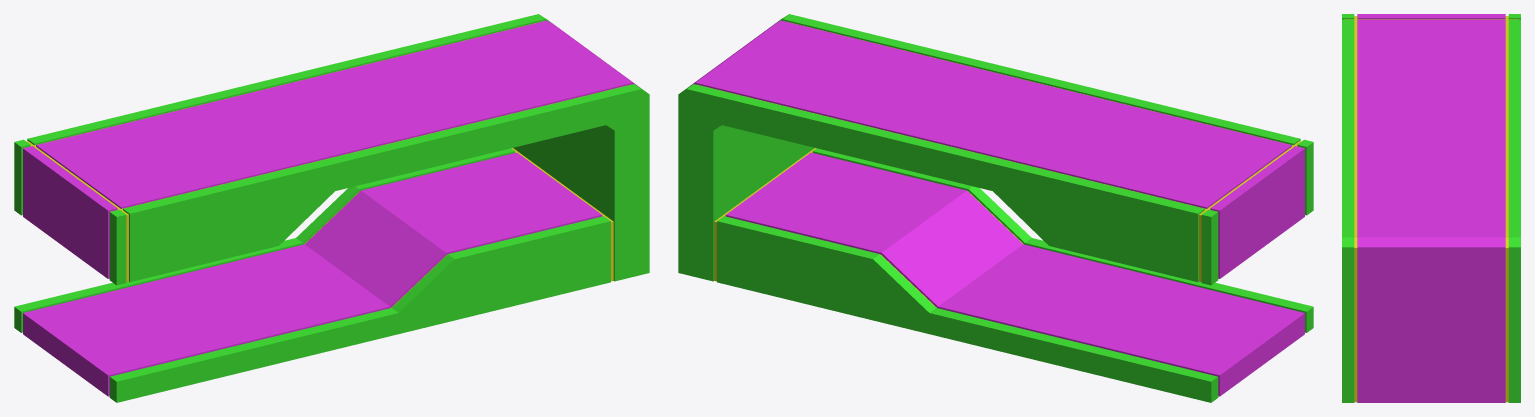
Rendered from Table_05.fbx.
3 renders of one model, left to right at view 1: azimuth 30°, elevation 25°; view 2: azimuth 150°, elevation 25°; view 3: azimuth 270°, elevation 25°, orthographic. The views are drawn at different scales.
Visible parts, largest first — view 1: Table_05; view 2: Table_05; view 3: Table_05.
Part boxes in pixels (x1,y1,x2,y2): Table_05: (14, 14, 649, 402); Table_05: (678, 14, 1313, 402); Table_05: (1342, 14, 1520, 402).
Size of the model in its own units: 183 by 60.96 by 60.96.
